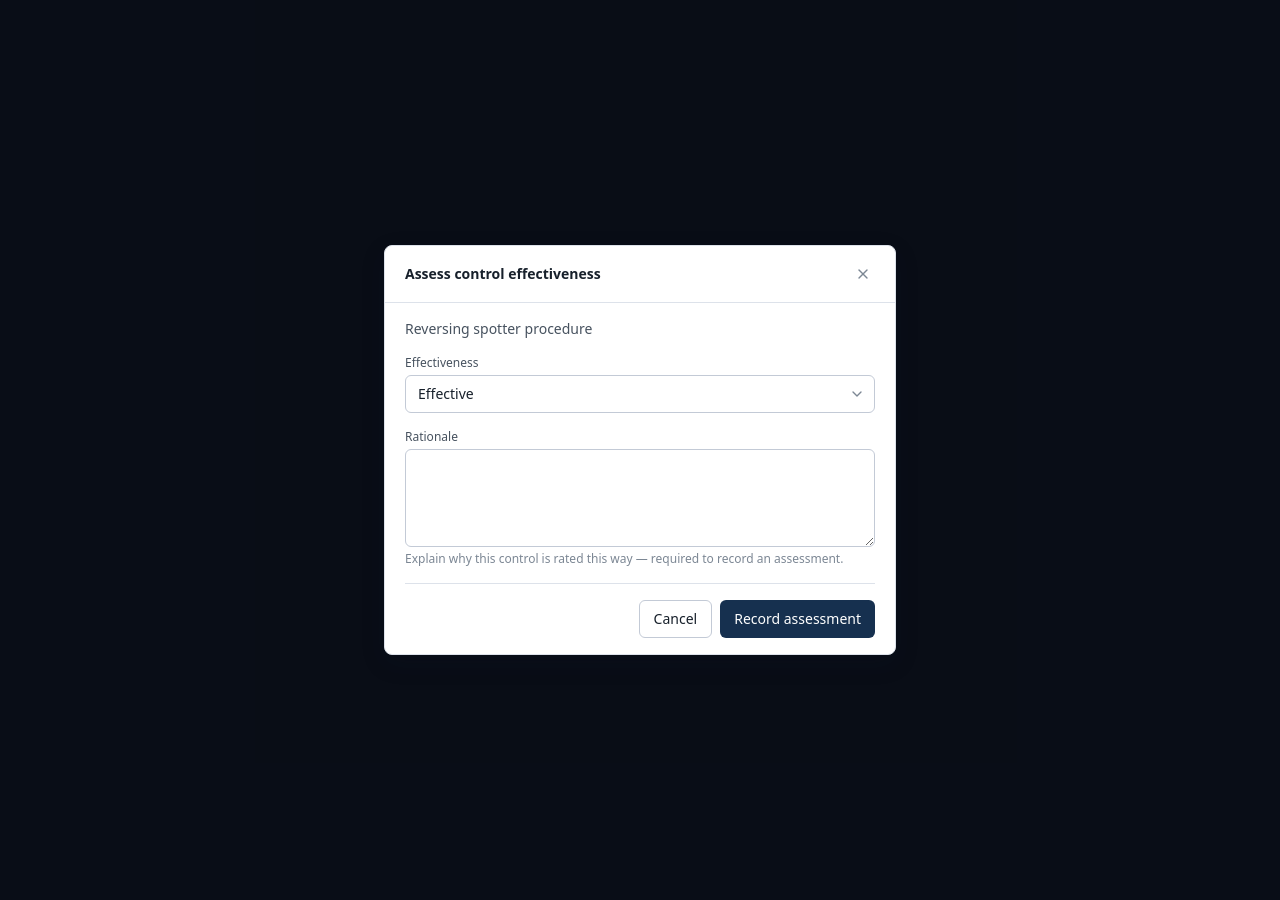
ControlEffectivenessDialog › requires a rationale — the backend requires it too
Click the button "Record assessment". click: [798, 619]
box: top-left (720, 600), bottom-right (875, 638)
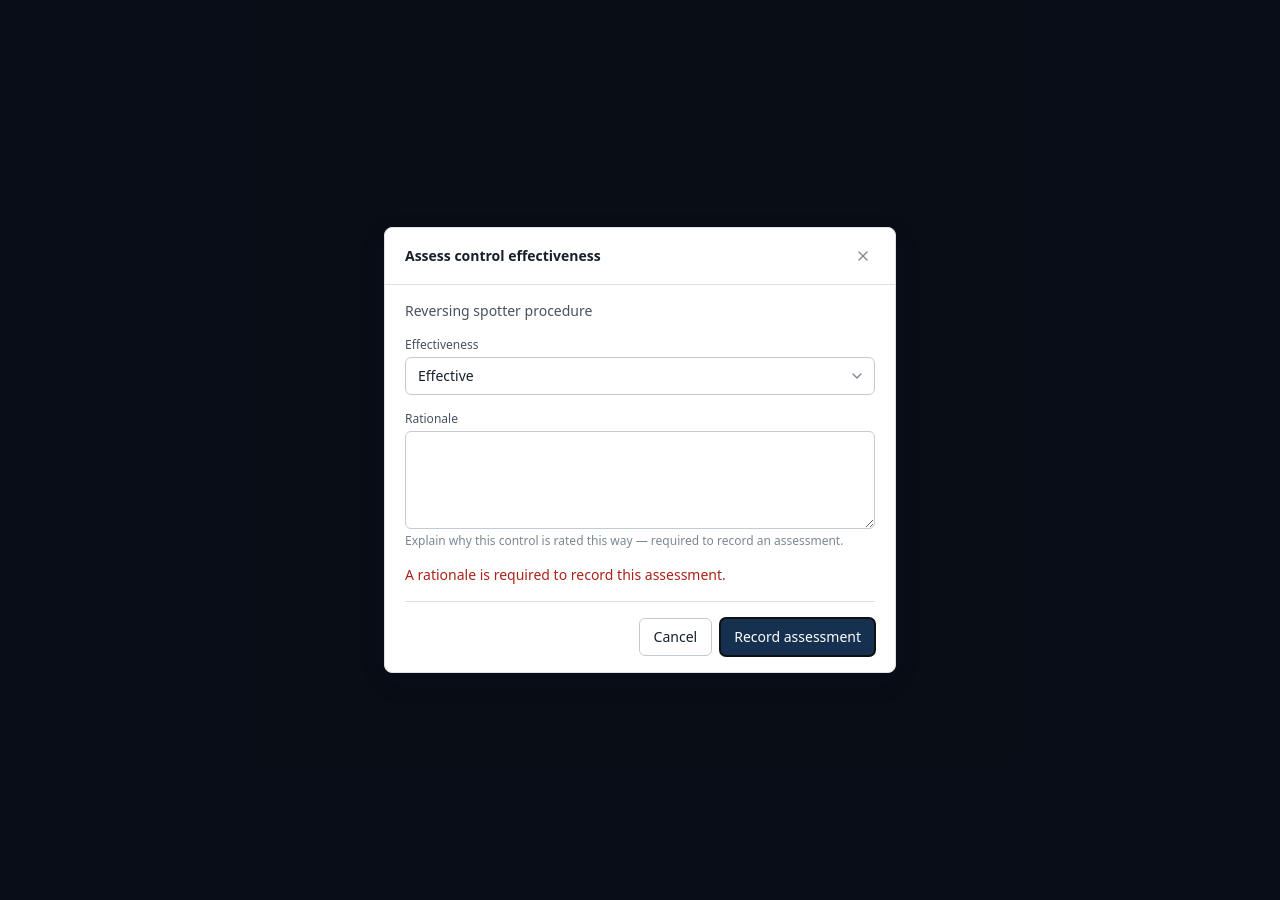
Expected: the message shows "A rationale is required", top-left (405, 565), bottom-right (726, 584)
